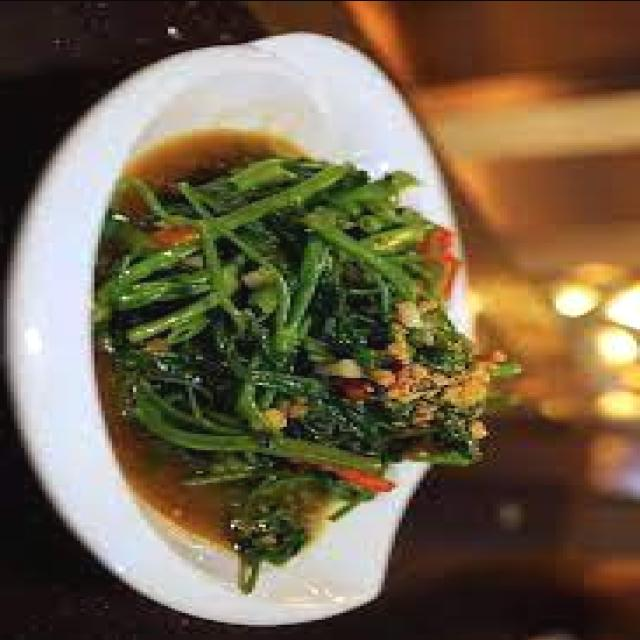tumis kangkung: (110, 130, 480, 574)
